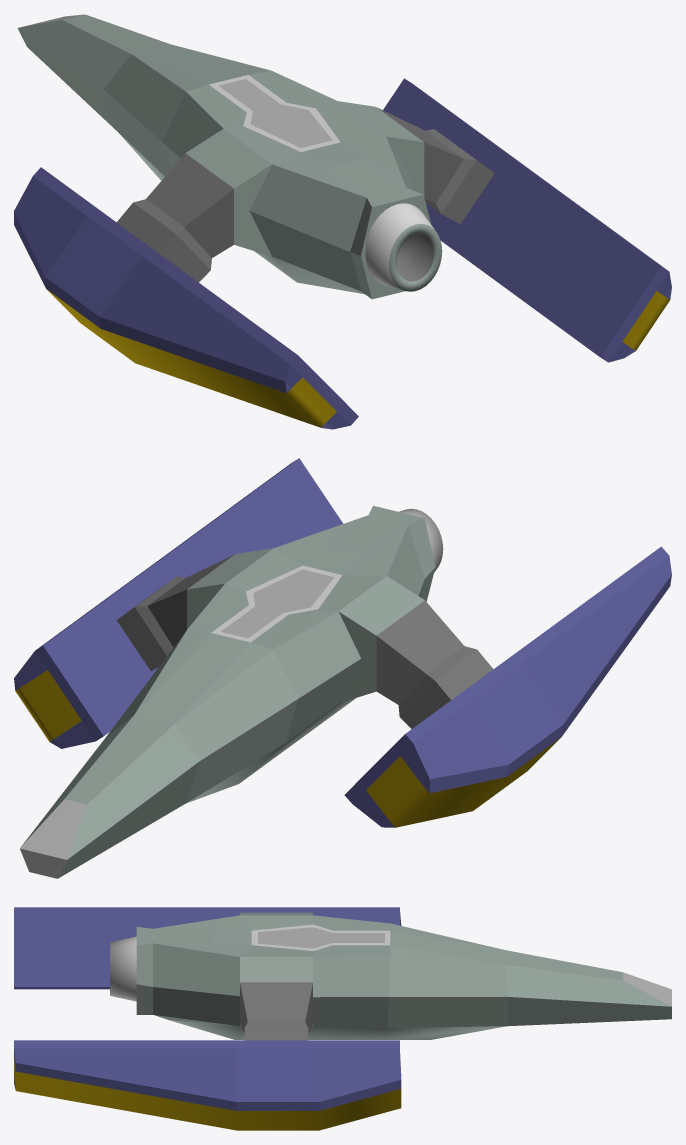
File: ship1.fbx
The picture shows the model from 3 angles, top to bottom: view 1: azimuth 30°, elevation 25°; view 2: azimuth 150°, elevation 25°; view 3: azimuth 270°, elevation 25°; orthographic projection. The views are drawn at different scales.
Visible parts, largest first — view 1: Ship; view 2: Ship; view 3: Ship.
Boxes of the visible parts, <box> form: Ship: <box>14,14,671,429</box>; Ship: <box>14,458,671,878</box>; Ship: <box>14,907,671,1130</box>.
Bounding box in the file's own units: 9.76 × 3.38 × 16.
